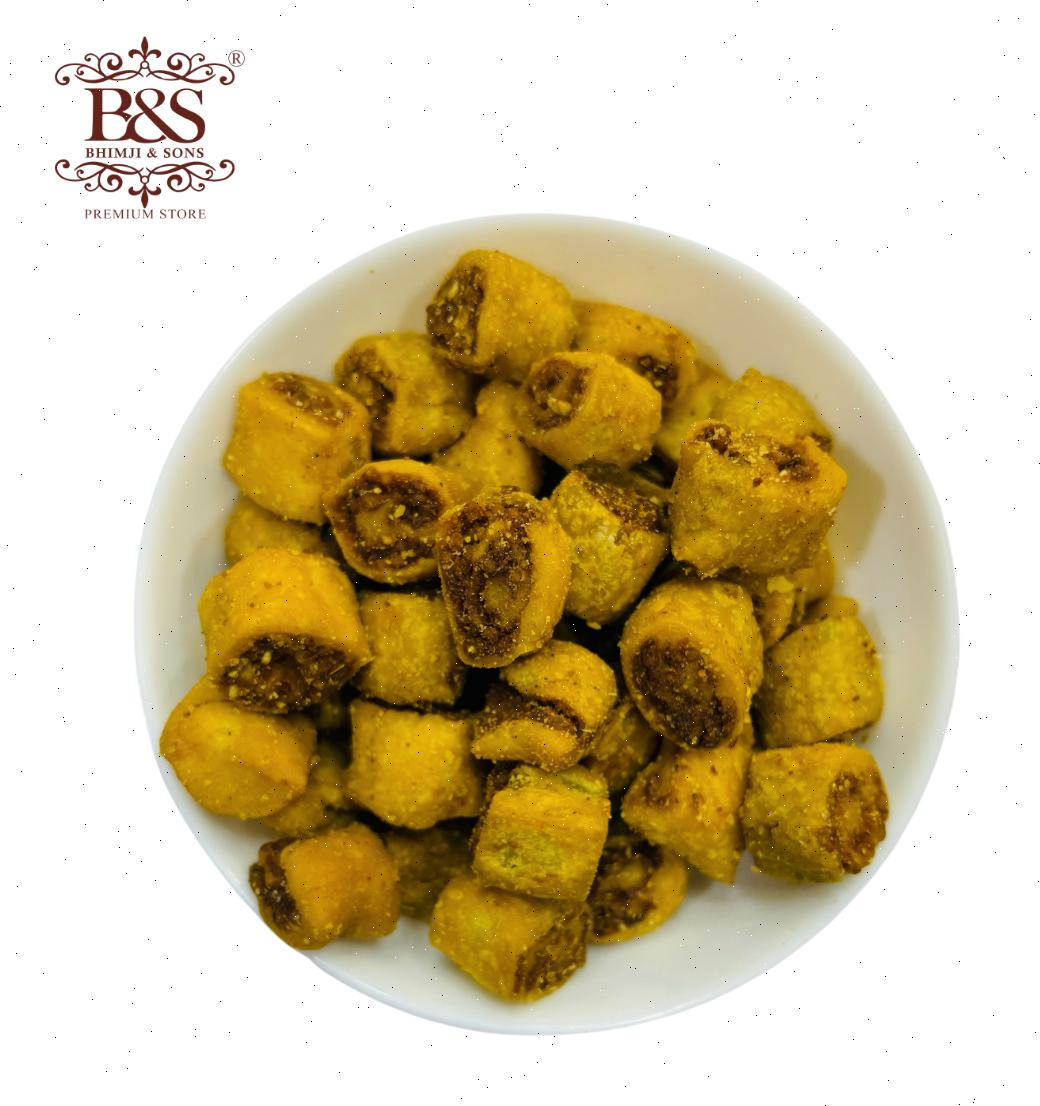bhakarwadi: (160, 246, 902, 994)
